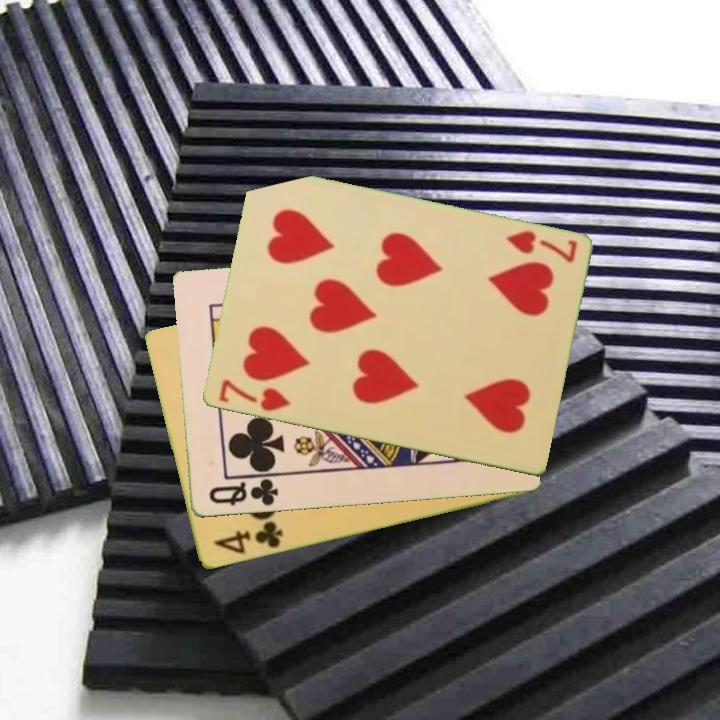4c: (210, 517, 285, 558)
7h: (214, 376, 293, 415), (502, 227, 580, 266)
Qc: (205, 473, 282, 509)
